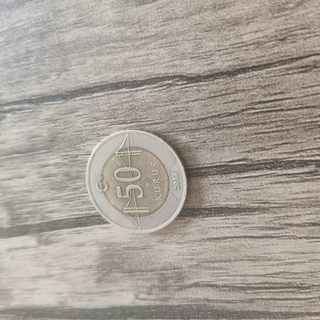50KURUS: (84, 127, 190, 234)
